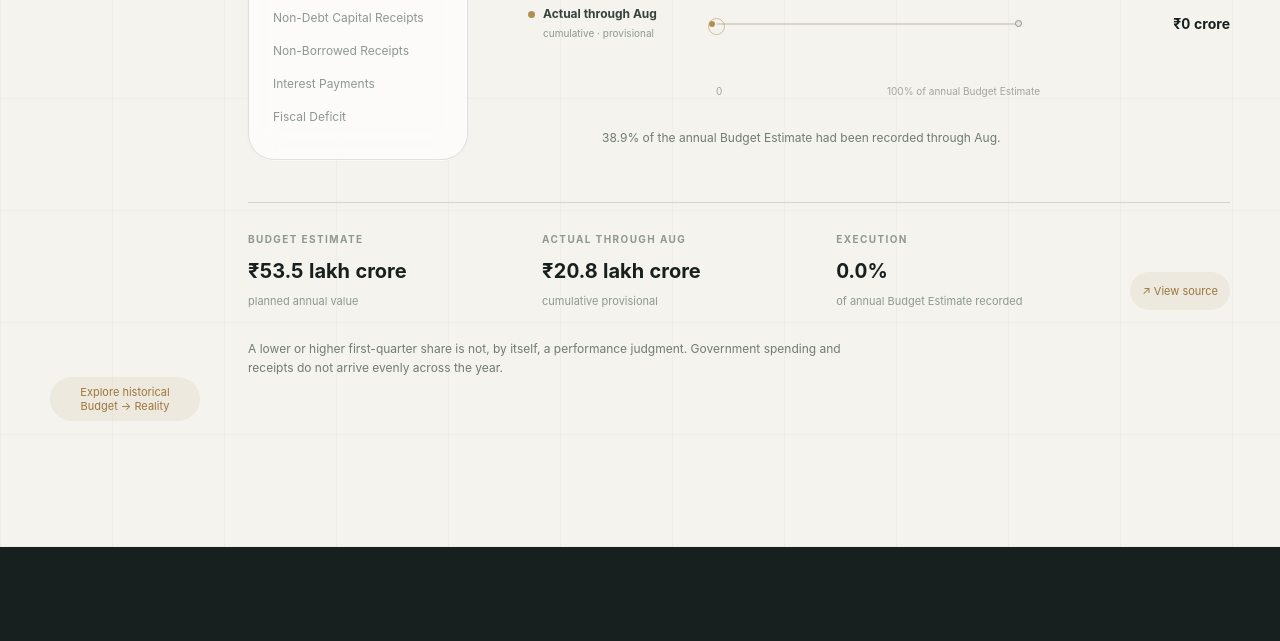
Test case: Budget to Reality historical mode › never offers FY 2026–27 YTD as an annual comparison year
(page scrolled)
Click the button "Explore historical Budget → Reality" at {"x": 125, "y": 399}, box [50, 377, 200, 421]
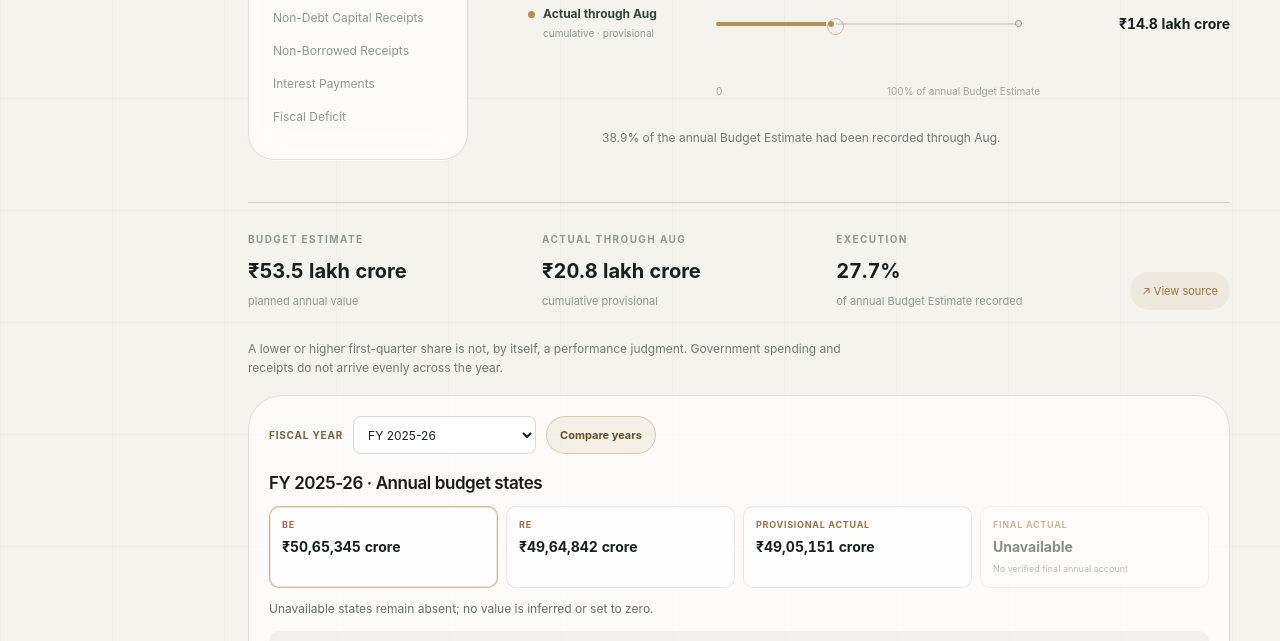
Check: the heading "FY 2025-26 · Annual budget states" is shown, box [269, 473, 542, 493]
Click the button "Compare years" at {"x": 601, "y": 435}, box [546, 416, 656, 454]
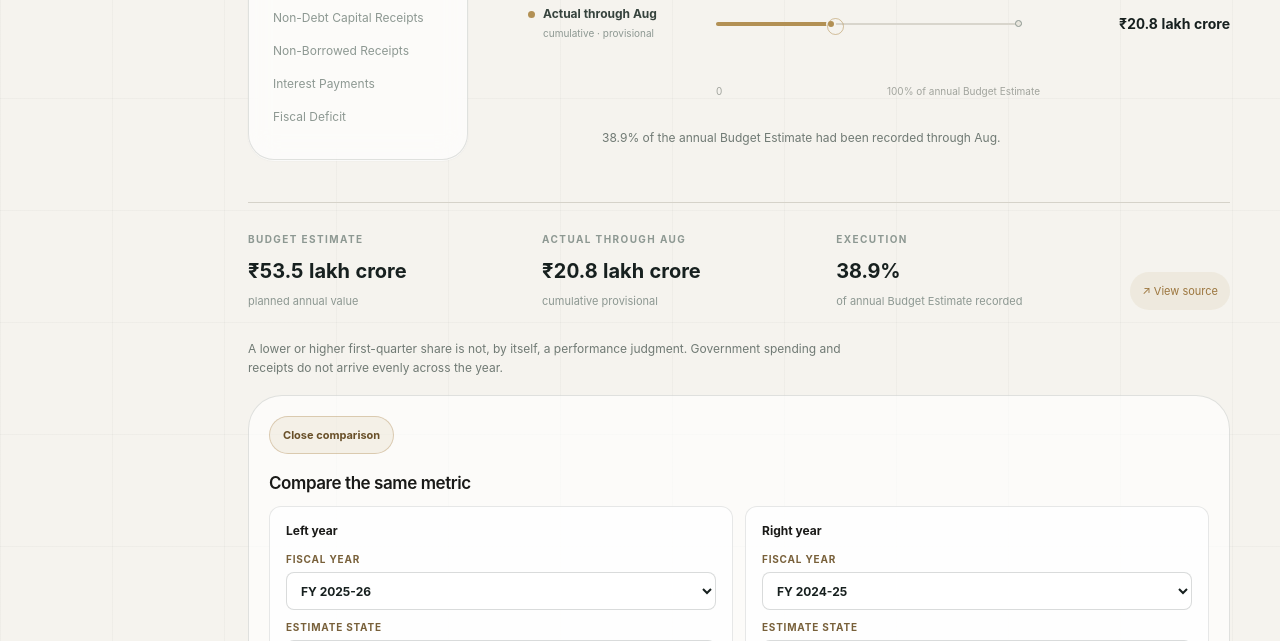
Check: the number of dropdowns labelled "Fiscal year" is 2, box [286, 572, 716, 610]; [762, 572, 1192, 610]
